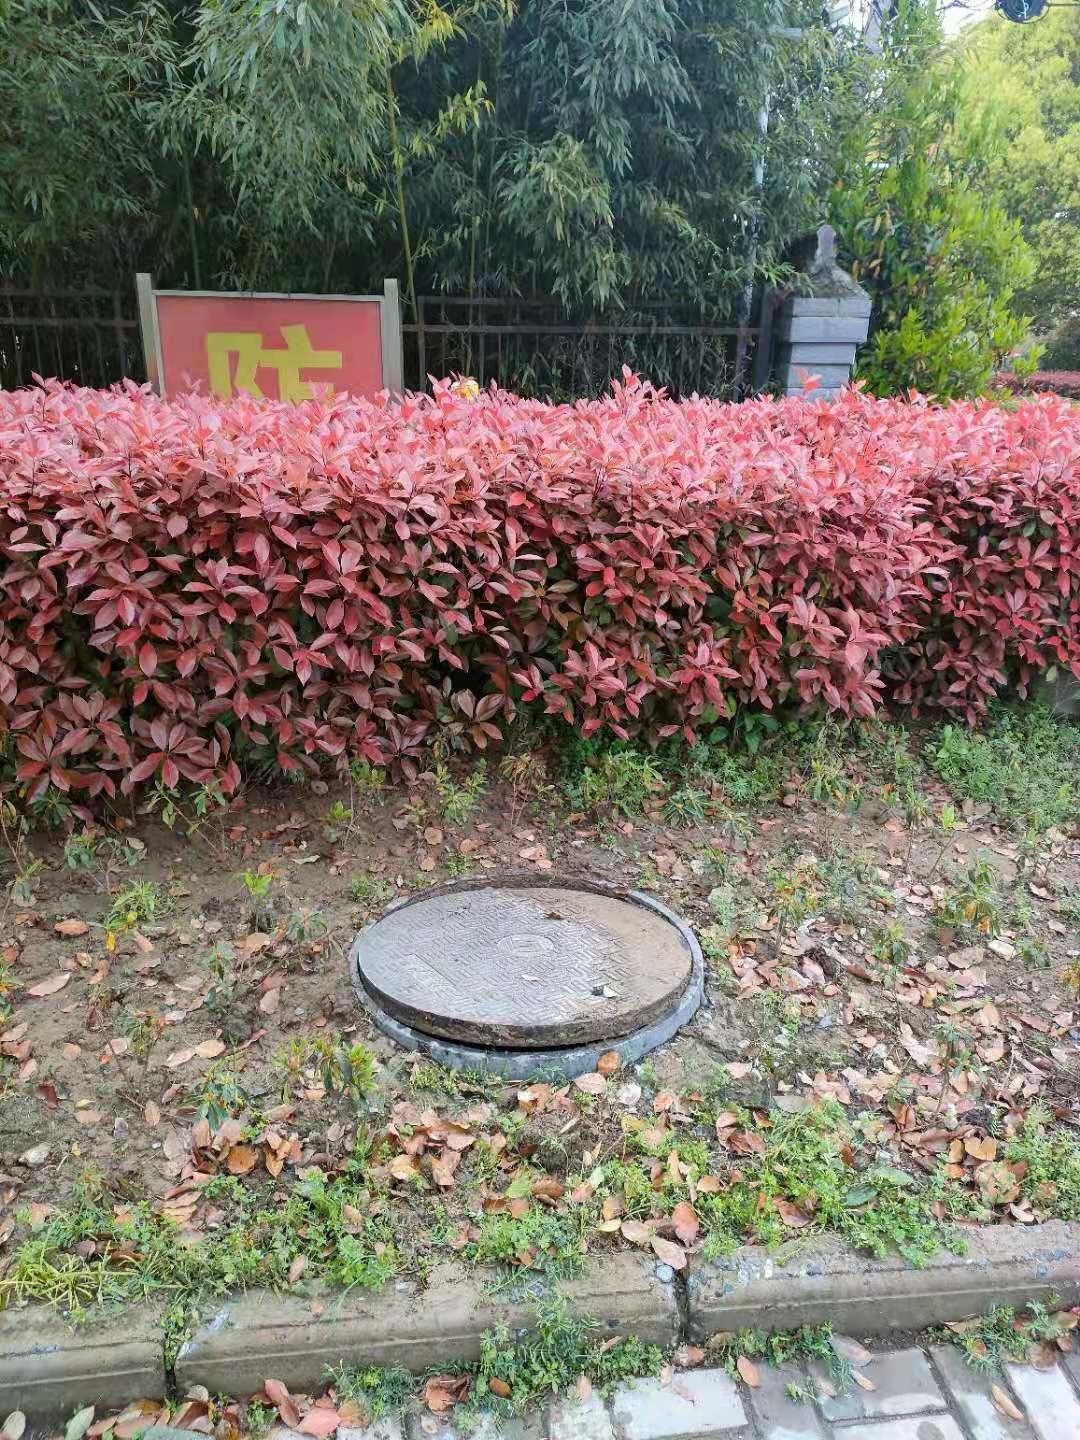wellcover: (331, 844, 716, 1069)
